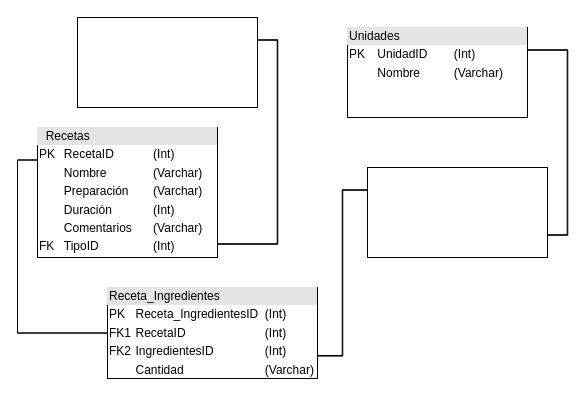
Image size: 586x396. Some labels were removed from this diagram. Each missing label, with the box of its shape:
Ingredientes PK IngredienteID (Int) Nombre (Varchar) FK UnidadID (Int): (366, 166, 548, 258)
TiposDePlatos PK TipoID (Int) Nombre (Varchar): (76, 16, 258, 108)
